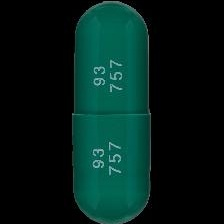21695-285: (0, 0, 224, 224)
